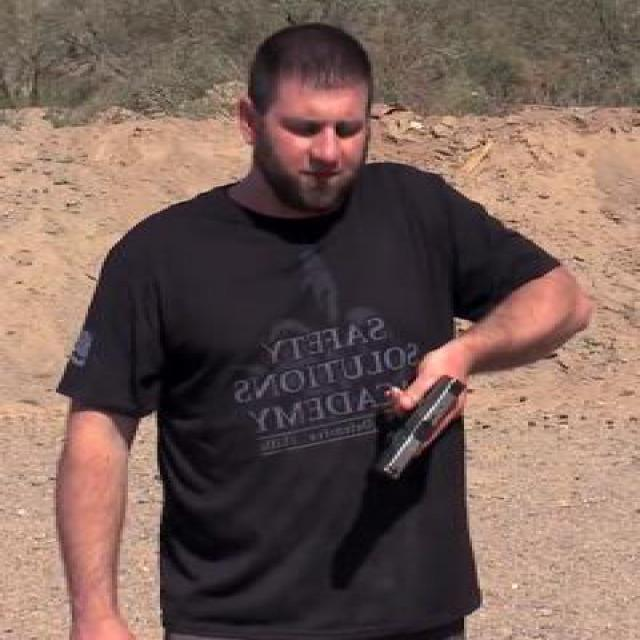Gun: (368, 357, 475, 473)
